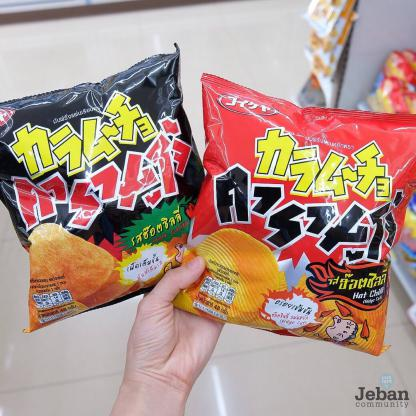potatochip: (170, 68, 415, 364), (0, 43, 216, 340)
